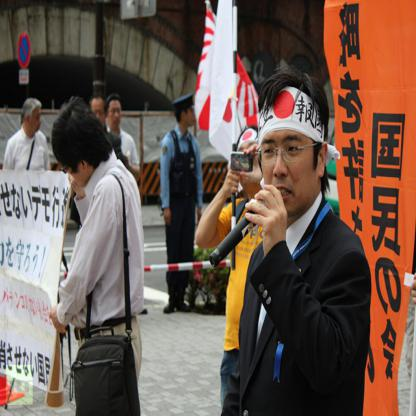face: (263, 111, 318, 214), (237, 133, 261, 181), (58, 148, 81, 185), (92, 101, 105, 128), (110, 103, 122, 126), (31, 107, 42, 131), (185, 105, 196, 127)
